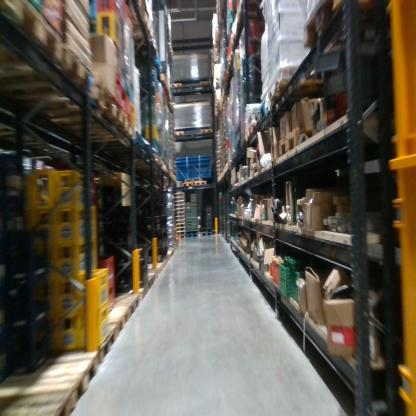pallet: (4, 351, 101, 402), (4, 52, 98, 98), (2, 2, 66, 56), (39, 97, 128, 132), (304, 3, 362, 54), (43, 110, 136, 140), (64, 321, 120, 365), (266, 67, 332, 103), (1, 391, 68, 415), (118, 14, 157, 41), (280, 128, 310, 162), (98, 303, 128, 330), (261, 86, 281, 123), (114, 287, 139, 316), (252, 104, 266, 128), (244, 117, 255, 146), (199, 77, 213, 93), (166, 81, 182, 94), (173, 129, 185, 140), (200, 128, 214, 137), (203, 229, 215, 238), (194, 180, 207, 188), (181, 180, 194, 188), (174, 234, 186, 239), (186, 232, 198, 237)
